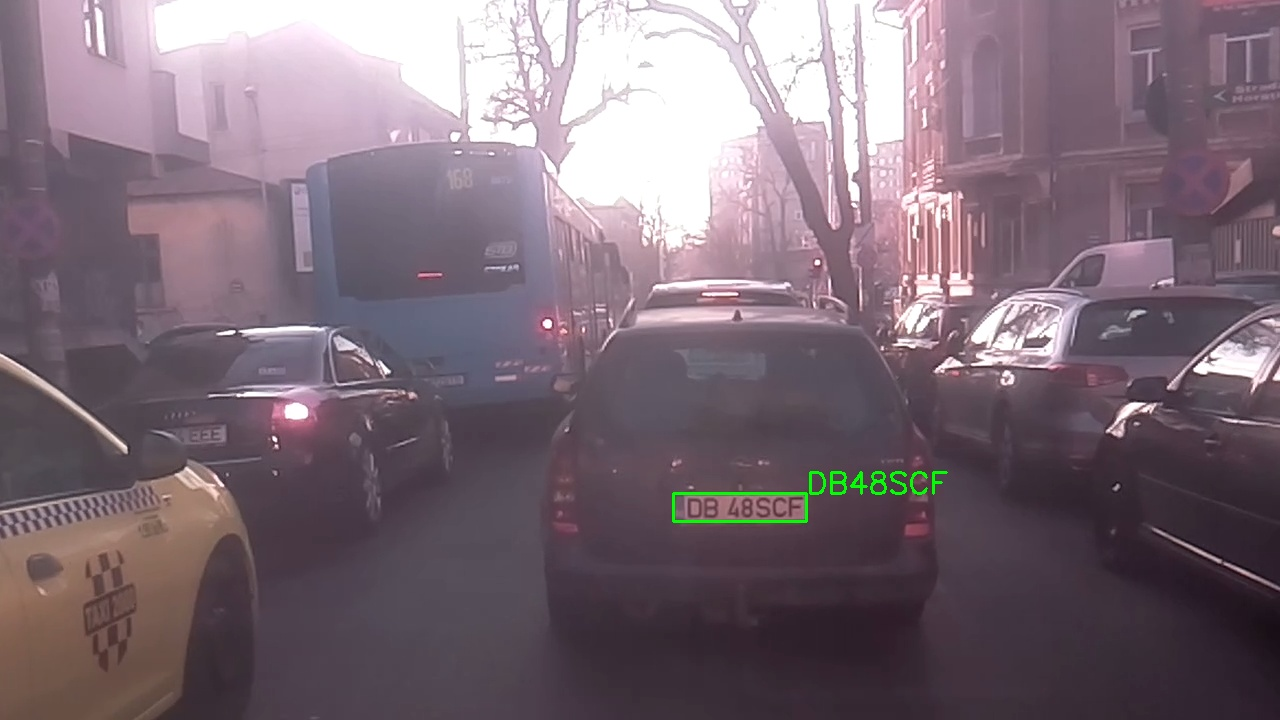license-plate: (673, 493, 807, 522)
